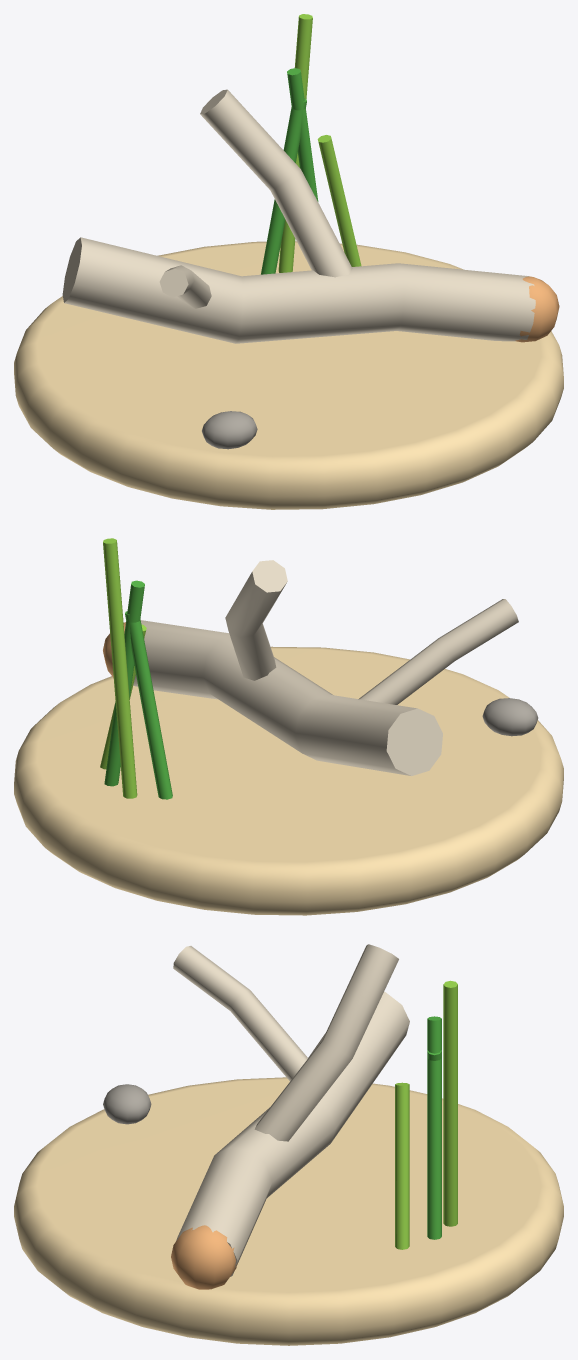
File: DecorDriftwood.fbx
The picture shows the model from 3 angles, top to bottom: view 1: azimuth 30°, elevation 25°; view 2: azimuth 150°, elevation 25°; view 3: azimuth 270°, elevation 25°; orthographic projection.
Parts seen in each view (by area): view 1: DecorDriftwood mesh; view 2: DecorDriftwood mesh; view 3: DecorDriftwood mesh.
Boxes of the visible parts, box(x1,y1,x2,y2) form: DecorDriftwood mesh: box(14, 14, 563, 509); DecorDriftwood mesh: box(14, 538, 563, 915); DecorDriftwood mesh: box(14, 944, 563, 1345).
Bounding box in the file's own units: 0.34 × 0.2054 × 0.34.
